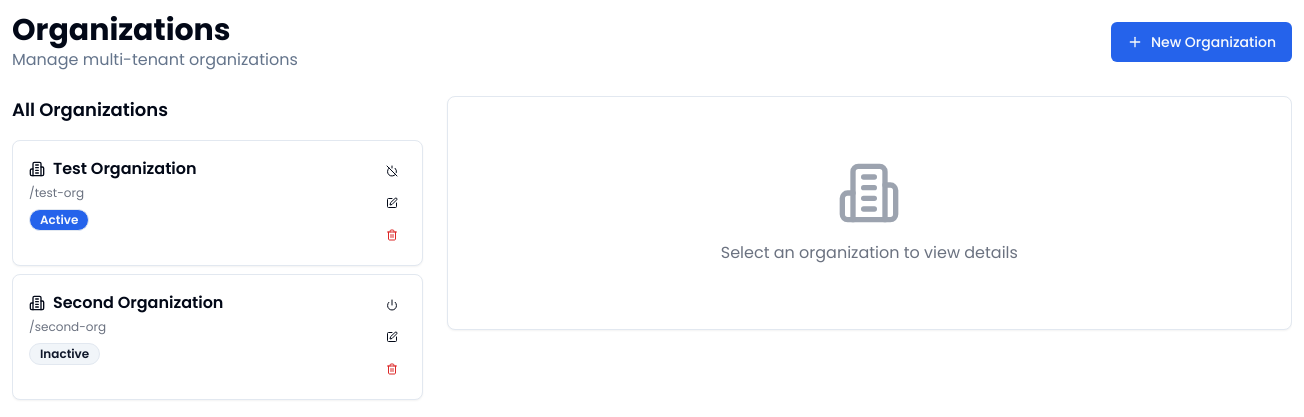
Test case: OrganizationsPage › shows organization stats when selected
Note: Click on organization to view stats
What coordinates should you click on to do the following:
click the heading "Test Organization"
I would click on:
 (125, 169)
Its box is x1=53 y1=157 x2=197 y2=181.
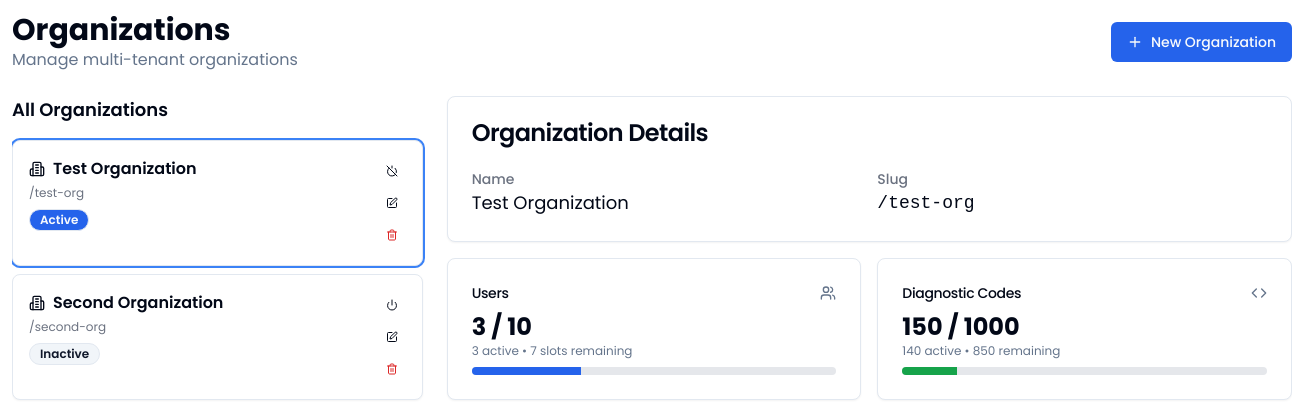
Now the heading "Organization Details" is shown, box x1=472 y1=116 x2=708 y2=149
Now the text "3 / 10" is shown, box x1=472 y1=310 x2=532 y2=343
Now the text "150 / 1000" is shown, box x1=902 y1=310 x2=1020 y2=343
